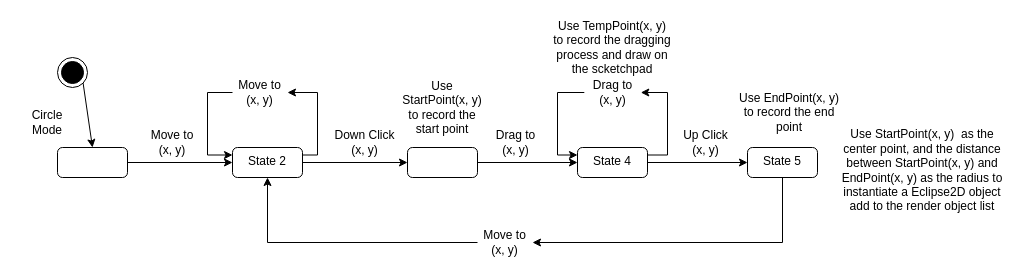
This 1024x274 diagram has some shape labels left out. The centre of each missing label's shape, as x and y in pixels:
State 1: (92,162)
State 3: (442,162)
